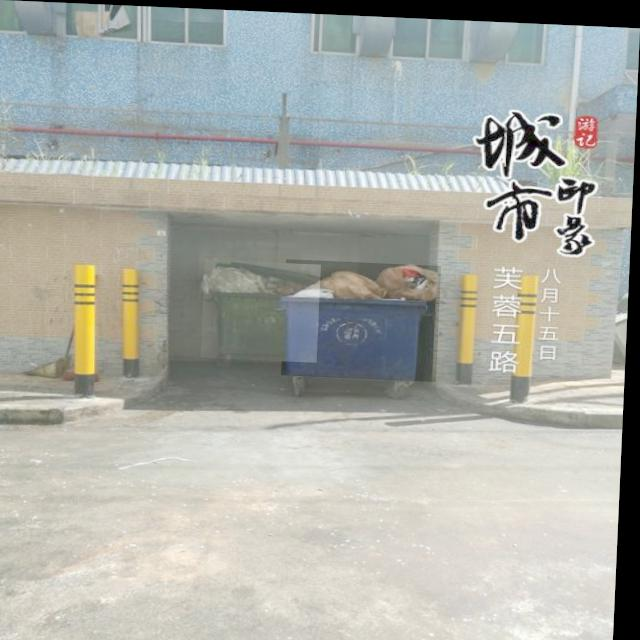overflow: (284, 257, 443, 378), (204, 257, 323, 360)
